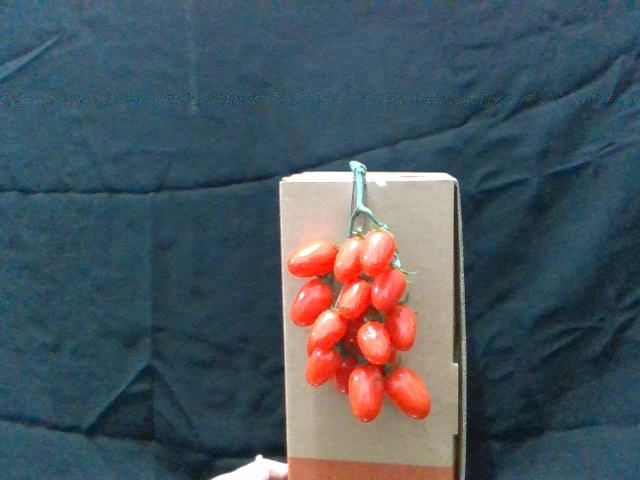tomato: (386, 366, 432, 423), (348, 365, 387, 426), (292, 278, 336, 329), (356, 319, 396, 369), (289, 239, 338, 279), (306, 309, 348, 355), (382, 303, 420, 353), (337, 276, 375, 325), (370, 267, 407, 313), (335, 236, 367, 285), (306, 347, 342, 389), (364, 230, 397, 274)
